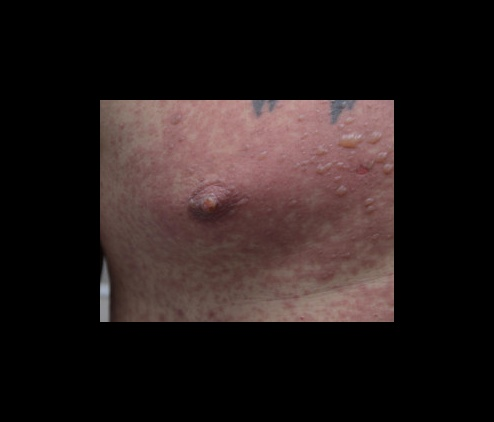SJS-TEN: (105, 98, 403, 338)
